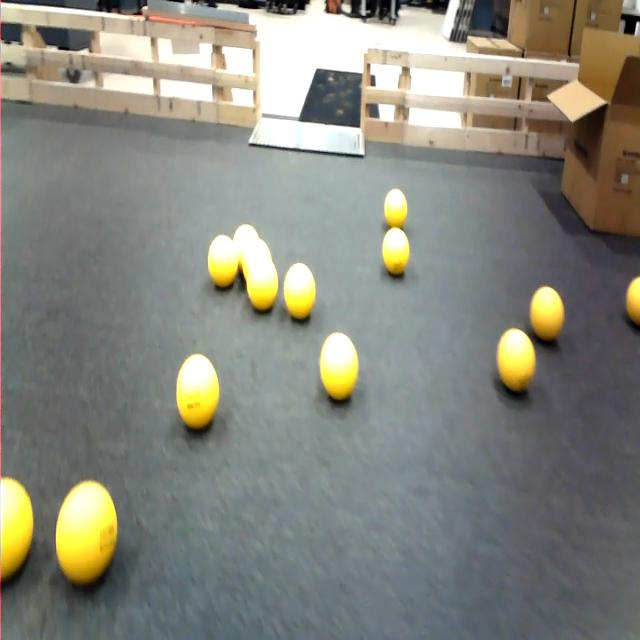fuel: (56, 481, 117, 585), (0, 478, 33, 582), (176, 354, 219, 429), (320, 333, 358, 400), (497, 329, 535, 392), (530, 287, 564, 341), (284, 264, 315, 319), (247, 260, 278, 311), (208, 235, 238, 287), (382, 228, 409, 275), (242, 239, 272, 278), (233, 224, 258, 270), (384, 188, 407, 227), (626, 277, 639, 326)
